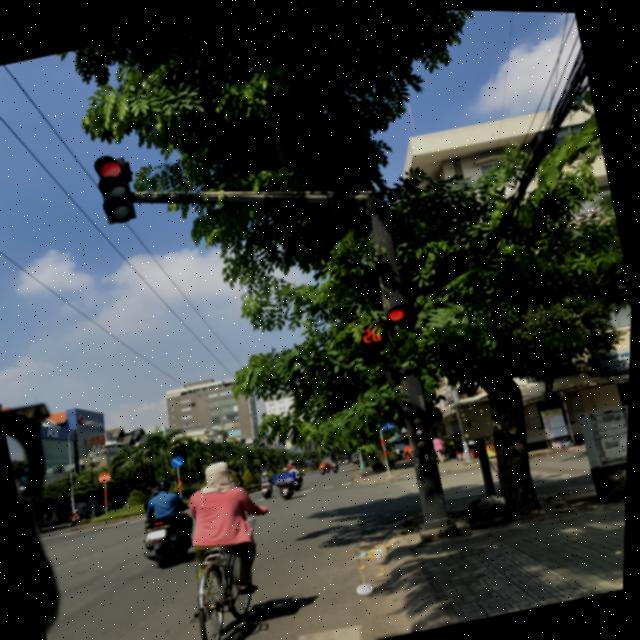Red: (89, 149, 144, 227), (386, 296, 414, 329)
